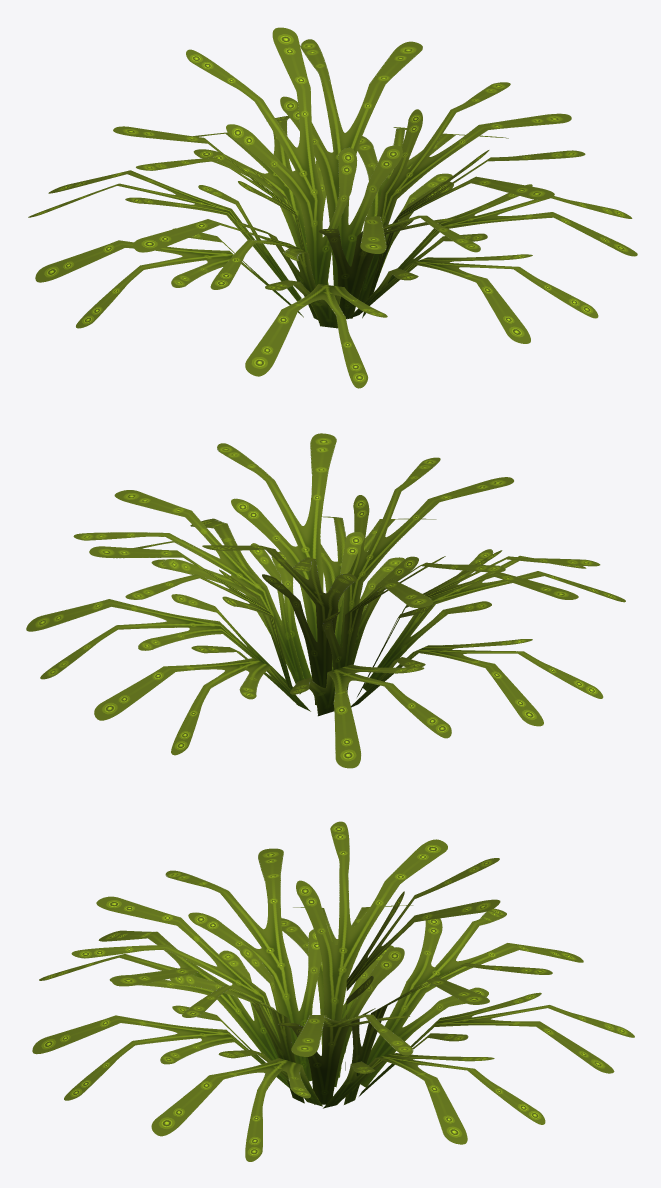
Rendered from SeaWeed_06.FBX.
3 views of the same model, one above another, from view 1: azimuth 30°, elevation 25°; view 2: azimuth 150°, elevation 25°; view 3: azimuth 270°, elevation 25° (orthographic). The views are drawn at different scales.
Visible parts, largest first — view 1: SeaWeed_06; view 2: SeaWeed_06; view 3: SeaWeed_06.
Part boxes in pixels (<box>): SeaWeed_06: <box>28,27,637,388</box>; SeaWeed_06: <box>26,433,625,768</box>; SeaWeed_06: <box>32,821,634,1161</box>.
Bounding box in the file's own units: 131 × 50.89 × 132.
